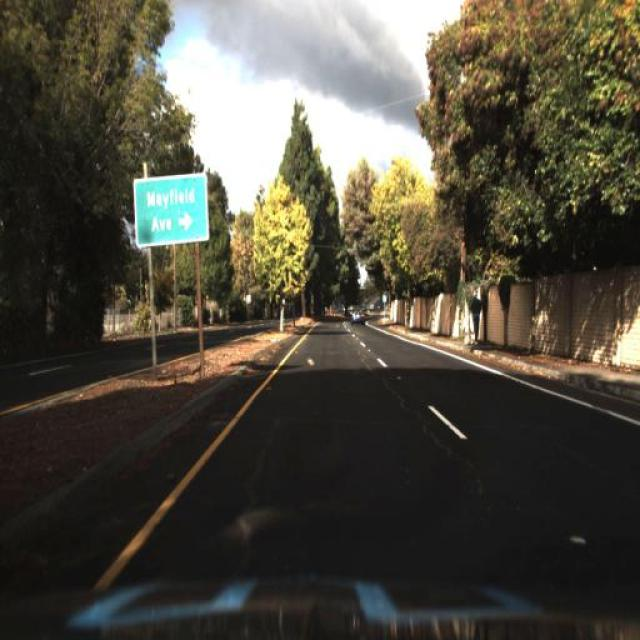car: (350, 308, 366, 326)
trafficLight: (468, 292, 482, 347)
